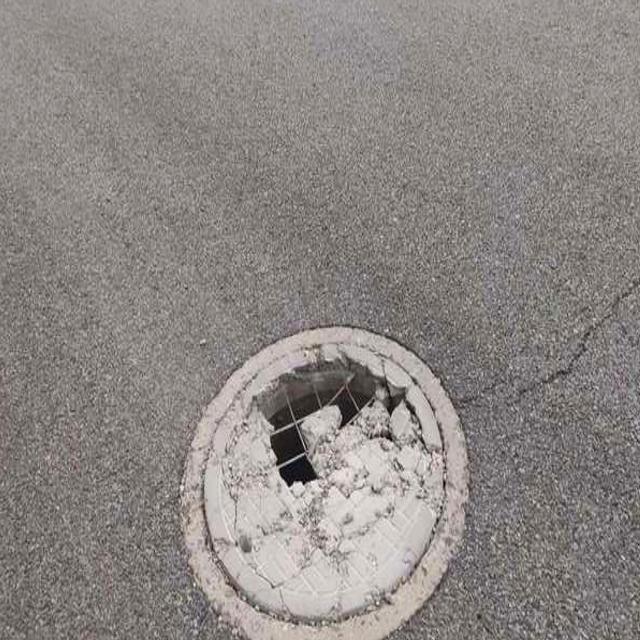broke: (175, 318, 474, 640)
